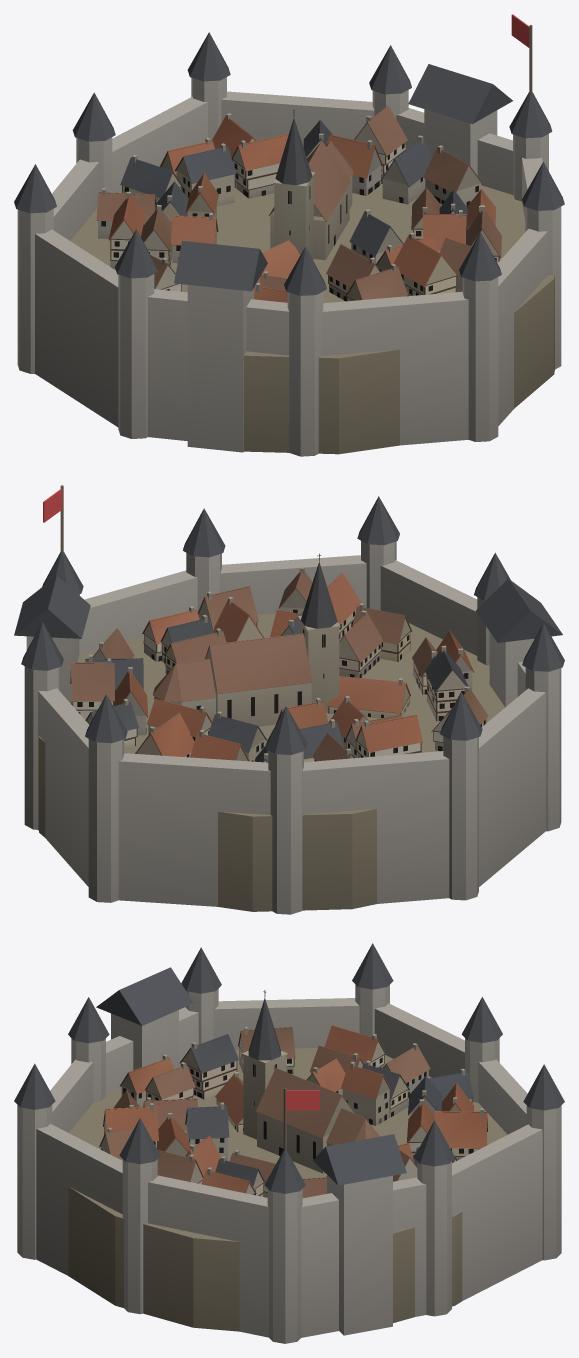
The model's file is town_a.glb.
3 renders of one model, top to bottom at view 1: azimuth 30°, elevation 25°; view 2: azimuth 150°, elevation 25°; view 3: azimuth 270°, elevation 25°, orthographic. The views are drawn at different scales.
Visible parts, largest first — view 1: town_a; view 2: town_a; view 3: town_a.
Part boxes in pixels (<box>): town_a: <box>14,14,564,456</box>; town_a: <box>14,485,564,914</box>; town_a: <box>14,943,564,1343</box>.
Size of the model in its own units: 1.97 by 1.05 by 2.06.
